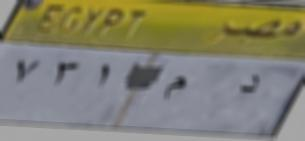1: (94, 57, 112, 94)
3: (52, 57, 81, 91)
7: (14, 53, 39, 88)
daal: (236, 67, 261, 100)
meem: (160, 70, 190, 103)
